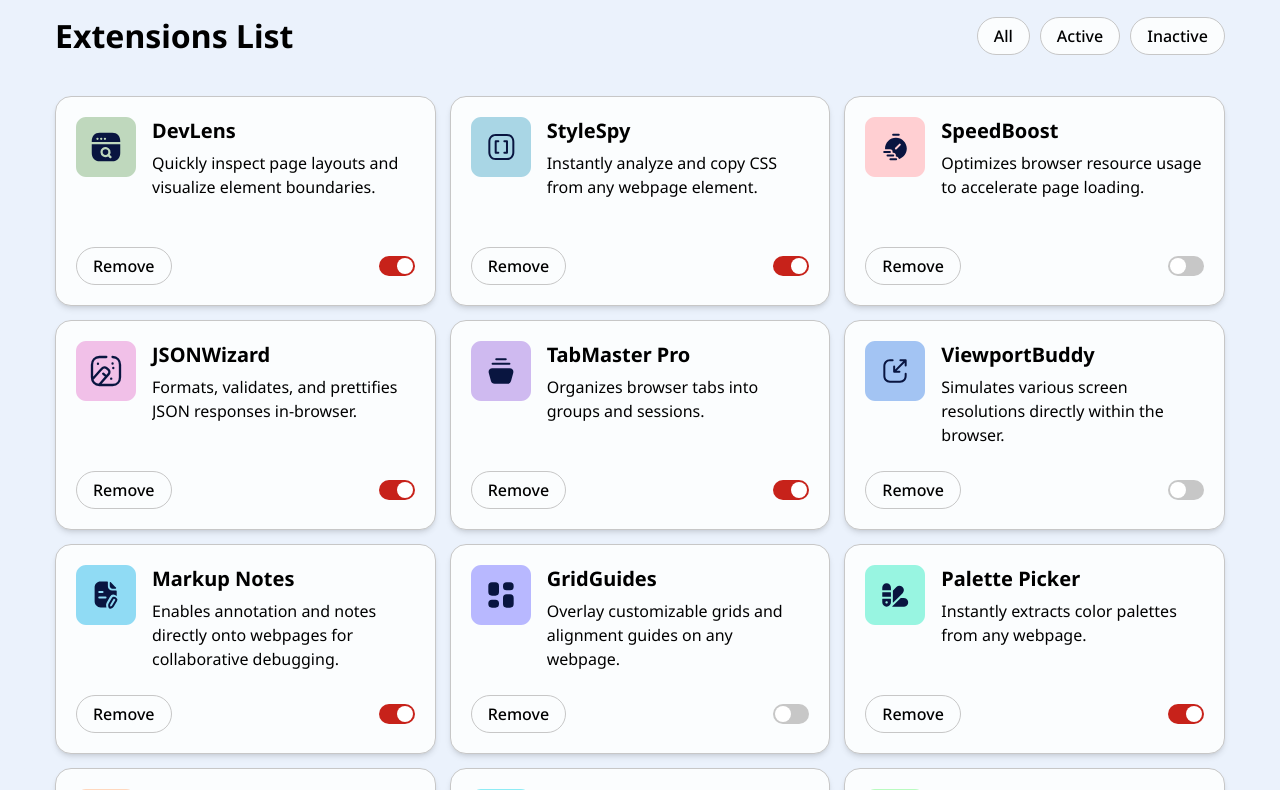
it: Filters › should filter inactive extensions
The image size is (1280, 790).
What coordinates should you click on to do the following:
click the button "Inactive"
I would click on:
 (1178, 36)
Its box is [1130, 17, 1225, 55].
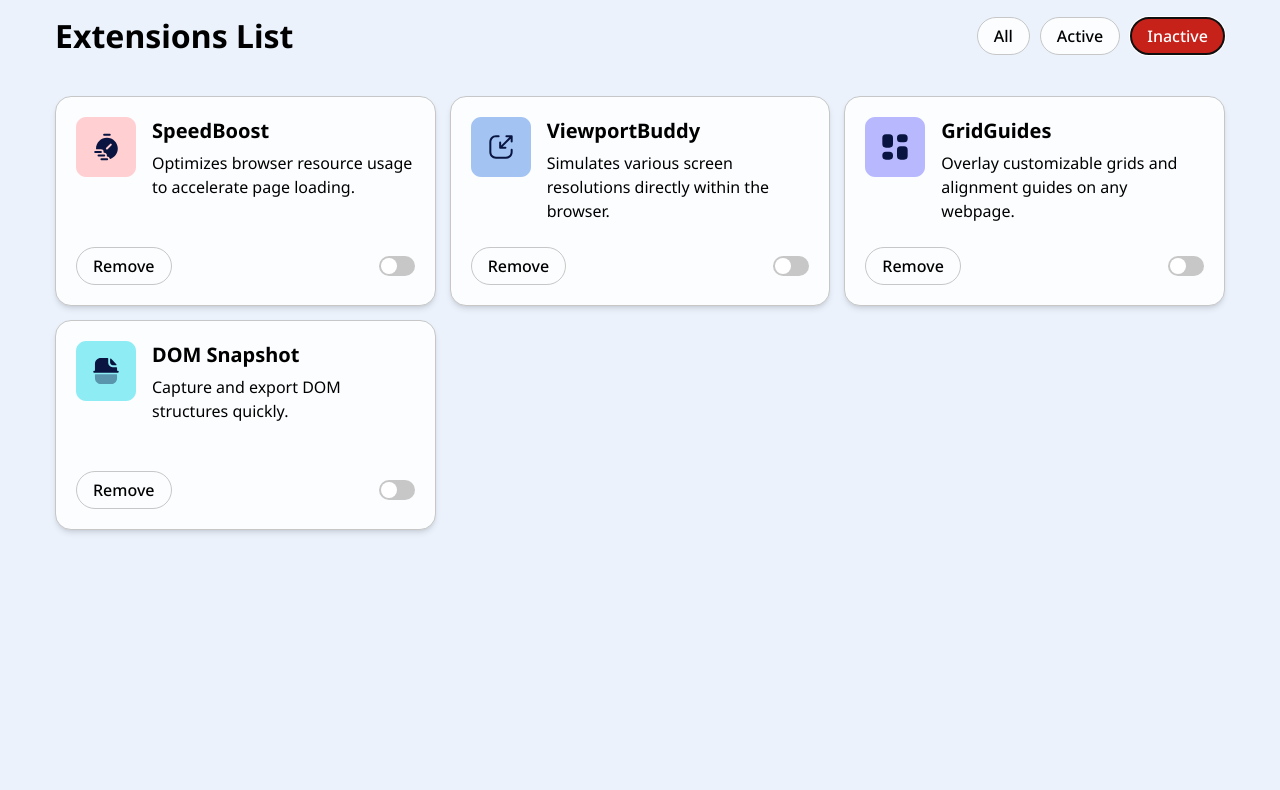
Now the number of list items is 4, box [55, 96, 436, 306]; [450, 96, 830, 306]; [844, 96, 1225, 306]; [55, 320, 436, 530]
